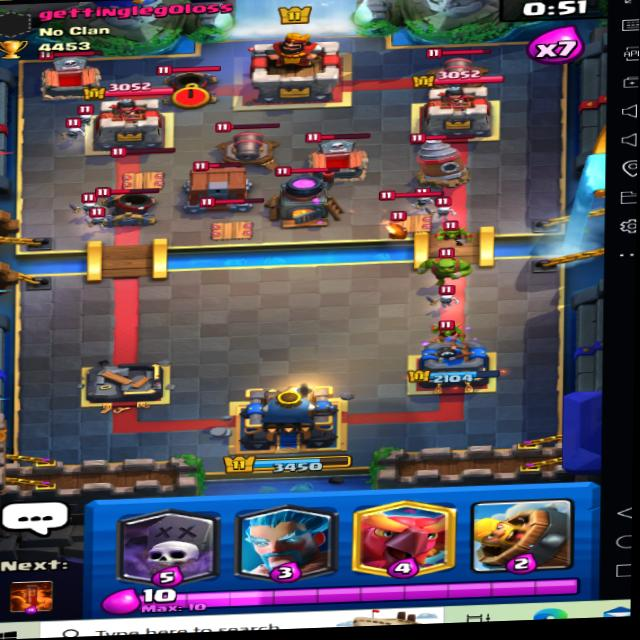Cannon: (207, 115, 293, 176), (420, 43, 492, 99)
Firespirit: (385, 212, 416, 241)
Furnace: (261, 162, 353, 227)
Goblin: (433, 222, 471, 247), (430, 316, 465, 342)
Goblinbrawler: (414, 239, 477, 281)
Goblincage: (169, 157, 262, 216)
Goblindrill: (406, 130, 471, 188)
Mortar: (89, 179, 162, 232), (154, 59, 223, 106)
Skeleton: (68, 101, 101, 125), (412, 190, 439, 218), (435, 284, 465, 307), (432, 194, 459, 218), (89, 211, 116, 233), (74, 194, 103, 210), (61, 128, 87, 140)
Teslahidden: (108, 137, 176, 194), (198, 193, 270, 242), (378, 187, 447, 237)
Tombstone: (38, 48, 116, 101), (303, 127, 375, 178)
